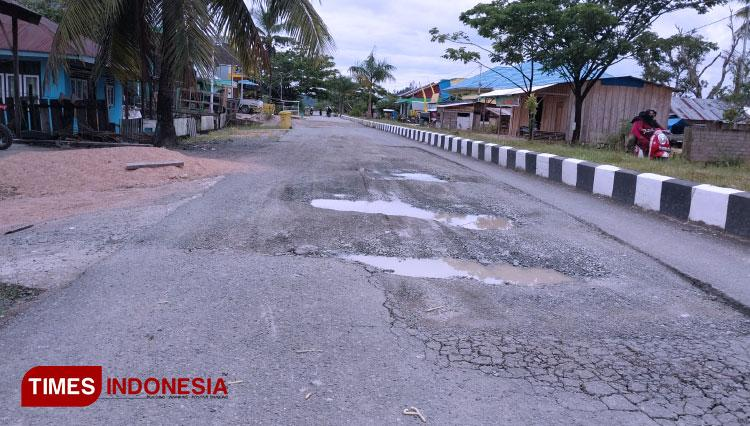Pothole: (274, 130, 599, 318), (329, 230, 575, 308), (287, 184, 516, 248), (355, 168, 460, 189)
